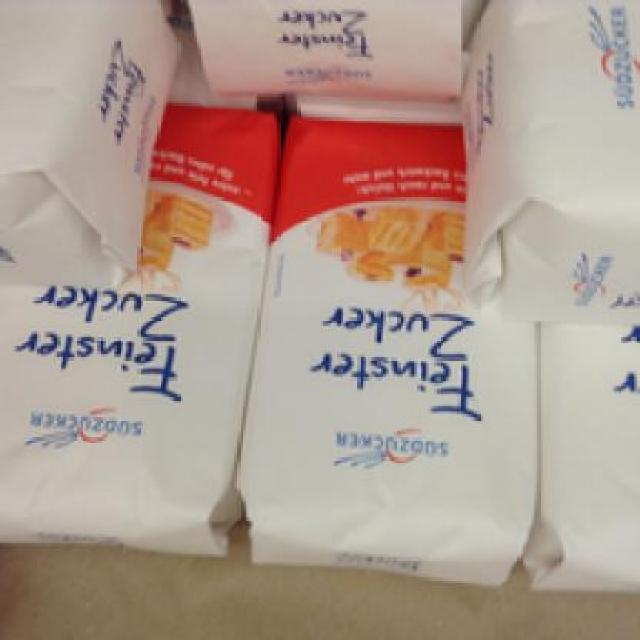Sugar: (225, 106, 538, 583), (0, 97, 269, 554)
